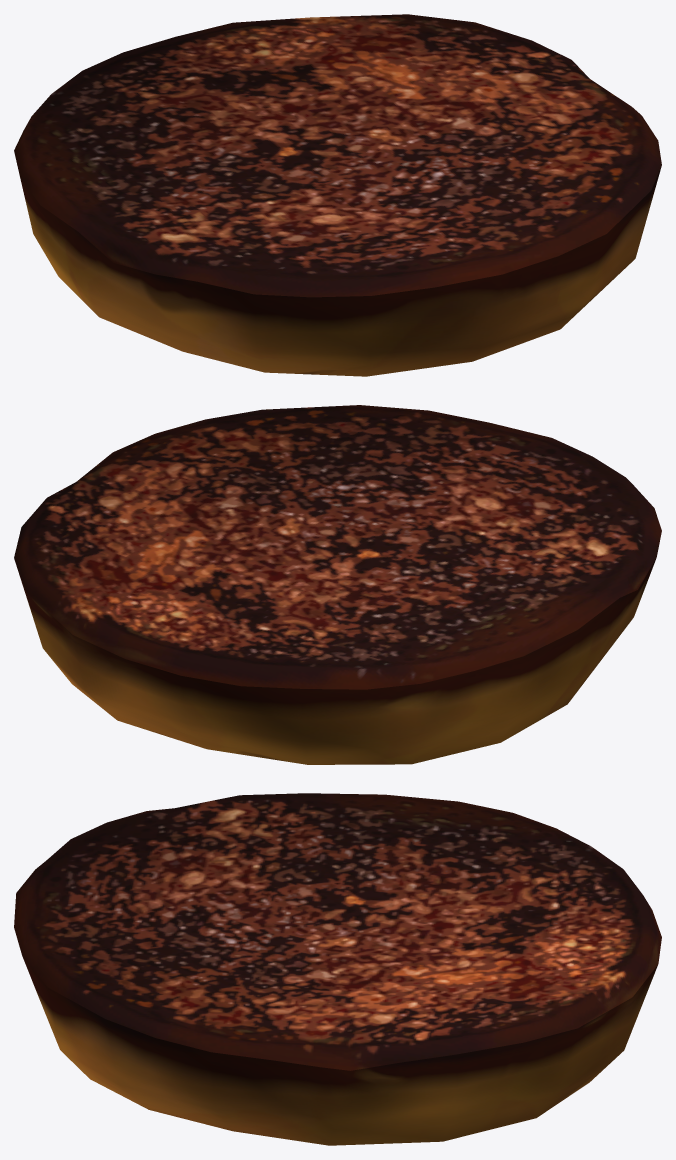
File: SM_BurgerBunBurntBottom.glb
The picture shows the model from 3 angles, top to bottom: view 1: azimuth 30°, elevation 25°; view 2: azimuth 150°, elevation 25°; view 3: azimuth 270°, elevation 25°; orthographic projection. The views are drawn at different scales.
Parts seen in each view (by area): view 1: SM_BurgerBunBurntBottom; view 2: SM_BurgerBunBurntBottom; view 3: SM_BurgerBunBurntBottom.
Boxes of the visible parts, left/top/right/bottom form: SM_BurgerBunBurntBottom: left=14, top=14, right=661, bottom=376; SM_BurgerBunBurntBottom: left=14, top=405, right=661, bottom=764; SM_BurgerBunBurntBottom: left=14, top=793, right=661, bottom=1145.
Bounding box in the file's own units: 0.1743 × 0.0401 × 0.1804.
Materials: 1 (1 with a texture image).
